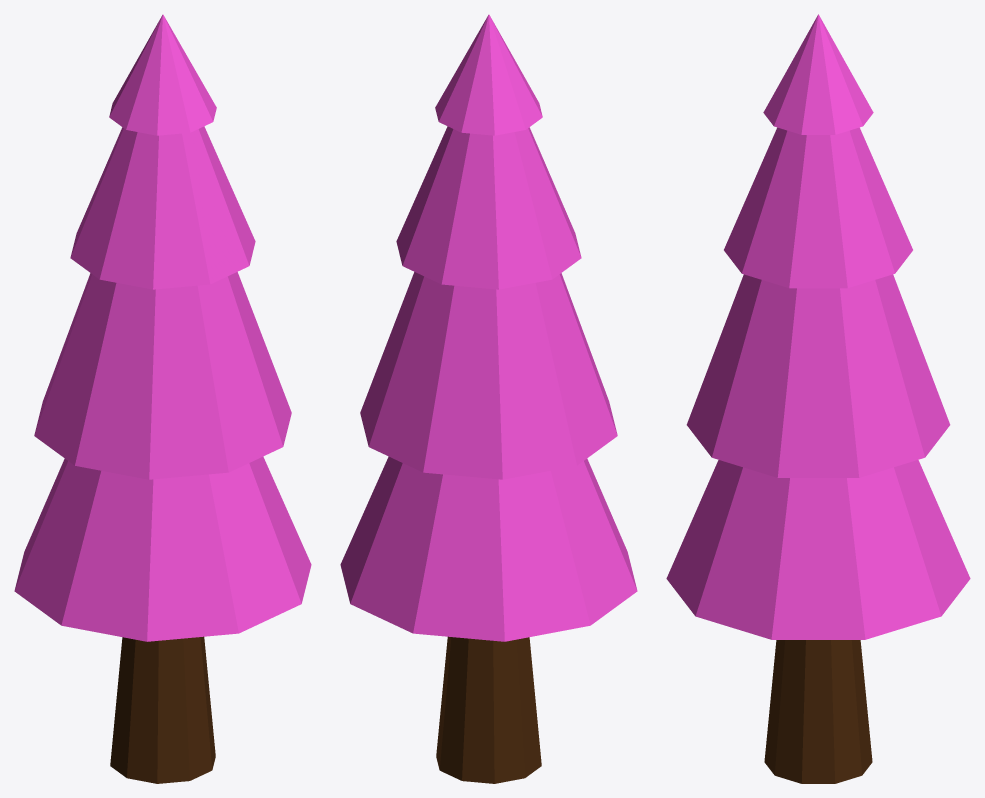
File: Tall_Pine_004.fbx
The picture shows the model from 3 angles, left to right: view 1: azimuth 30°, elevation 25°; view 2: azimuth 150°, elevation 25°; view 3: azimuth 270°, elevation 25°; orthographic projection.
Parts seen in each view (by area): view 1: Tall Pine.004; view 2: Tall Pine.004; view 3: Tall Pine.004.
Boxes of the visible parts, left/top/right/bottom form: Tall Pine.004: left=14, top=14, right=311, bottom=783; Tall Pine.004: left=340, top=14, right=637, bottom=783; Tall Pine.004: left=666, top=14, right=970, bottom=783.
Bounding box in the file's own units: 165 × 471 × 173.
